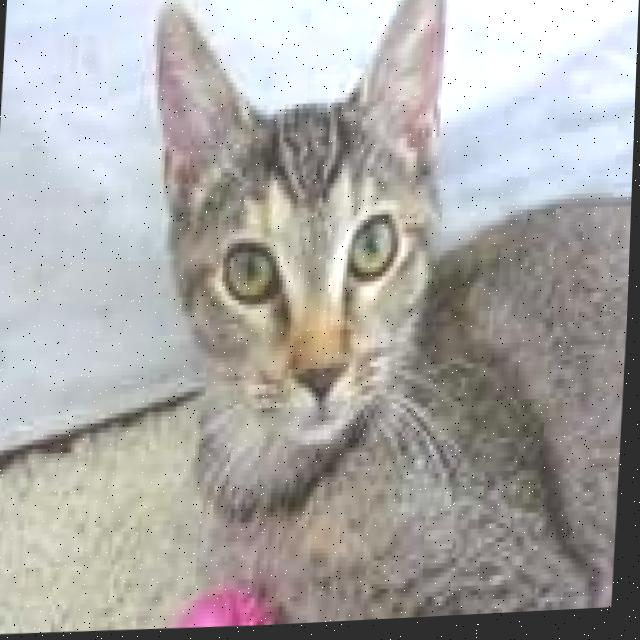Abyssinian: (121, 0, 640, 634)
